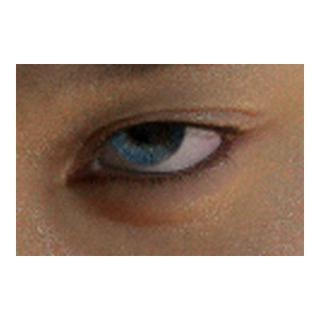pupil: (130, 109, 162, 141)
